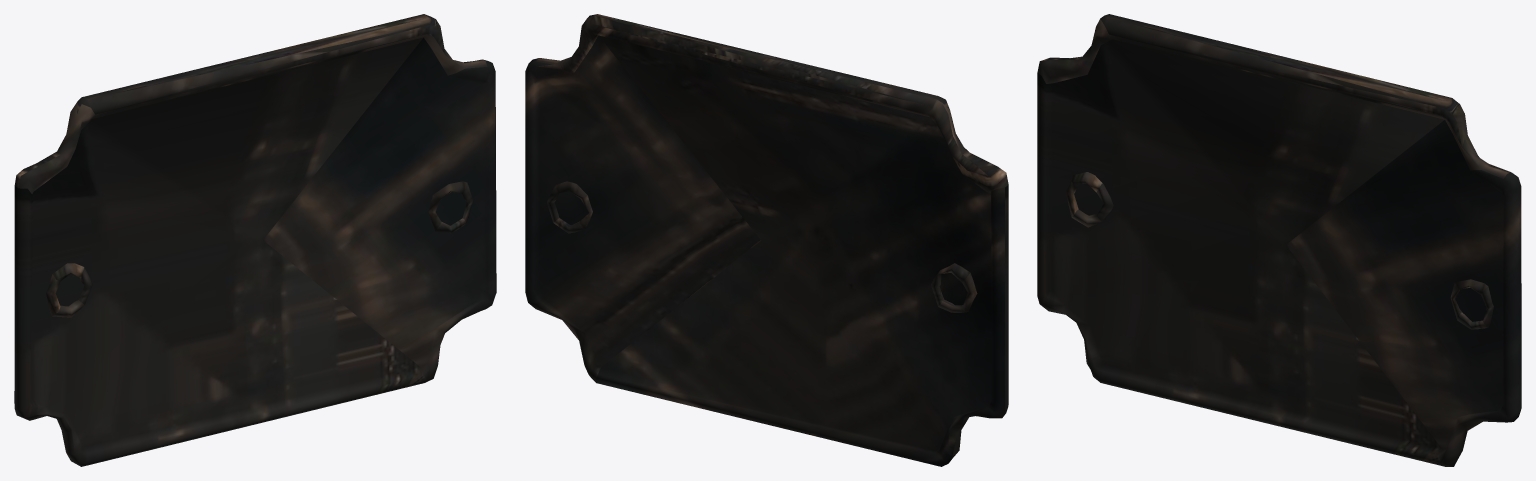
File: RoomNumber5.fbx
3 views of the same model, side by side, from view 1: azimuth 30°, elevation 25°; view 2: azimuth 150°, elevation 25°; view 3: azimuth 330°, elevation 25° (orthographic).
Parts seen in each view (by area): view 1: RoomNumber5; view 2: RoomNumber5; view 3: RoomNumber5.
Part boxes in pixels (<box>): RoomNumber5: <box>14,14,496,466</box>; RoomNumber5: <box>525,14,1008,466</box>; RoomNumber5: <box>1037,14,1521,466</box>.
Size of the model in its own units: 170 by 124 by 6.5.
